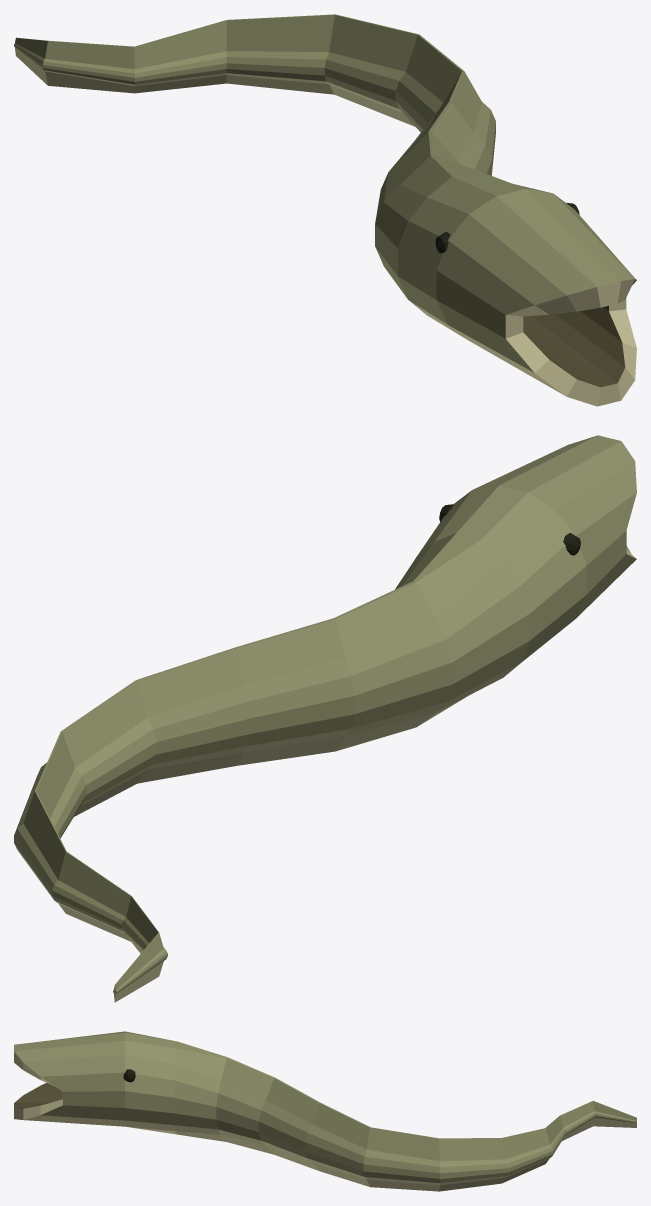
3 views of the same model, one above another, from view 1: azimuth 30°, elevation 25°; view 2: azimuth 150°, elevation 25°; view 3: azimuth 270°, elevation 25° (orthographic). The views are drawn at different scales.
Parts seen in each view (by area): view 1: WholeCurvedCompressedBodyMedianFinsAndOpenMouth; view 2: WholeCurvedCompressedBodyMedianFinsAndOpenMouth; view 3: WholeCurvedCompressedBodyMedianFinsAndOpenMouth.
Part boxes in pixels (x1,y1,x2,y2): WholeCurvedCompressedBodyMedianFinsAndOpenMouth: [14, 14, 636, 406]; WholeCurvedCompressedBodyMedianFinsAndOpenMouth: [14, 435, 636, 1002]; WholeCurvedCompressedBodyMedianFinsAndOpenMouth: [14, 1031, 636, 1191].
Size of the model in its own units: 0.8898 by 0.55 by 2.99.
